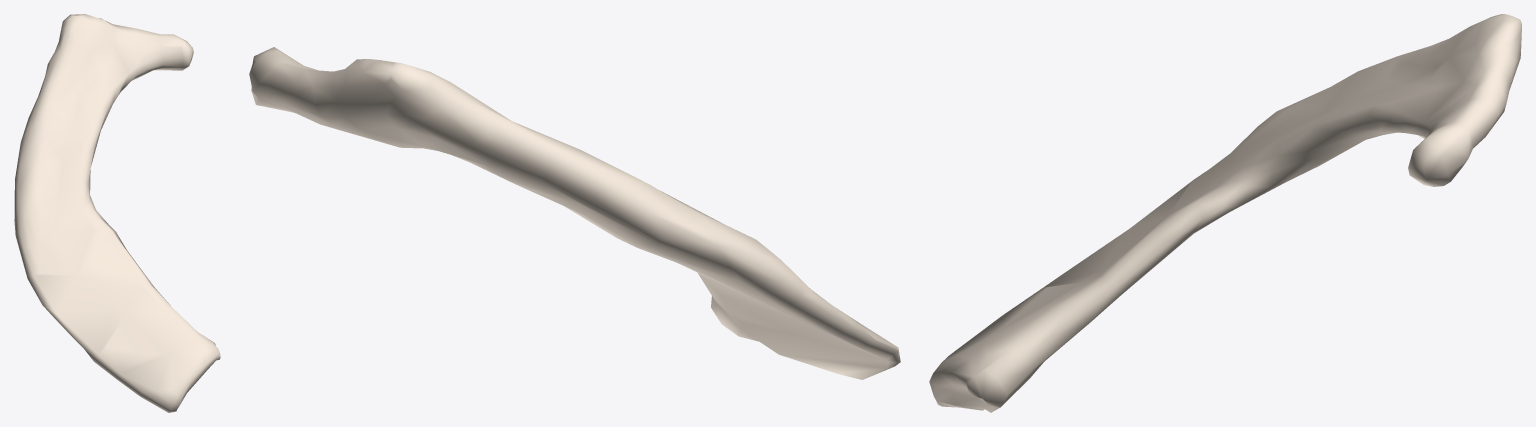
File: right_rib_1.glb
3 views of the same model, side by side, from view 1: azimuth 30°, elevation 25°; view 2: azimuth 150°, elevation 25°; view 3: azimuth 270°, elevation 25° (orthographic). The views are drawn at different scales.
Parts seen in each view (by area): view 1: Rib (1st).r; view 2: Rib (1st).r; view 3: Rib (1st).r.
Part boxes in pixels (x1,y1,x2,y2): Rib (1st).r: [14, 14, 220, 412]; Rib (1st).r: [249, 47, 900, 379]; Rib (1st).r: [929, 14, 1521, 412].
Size of the model in its own units: 0.0544 by 0.0585 by 0.0705.
